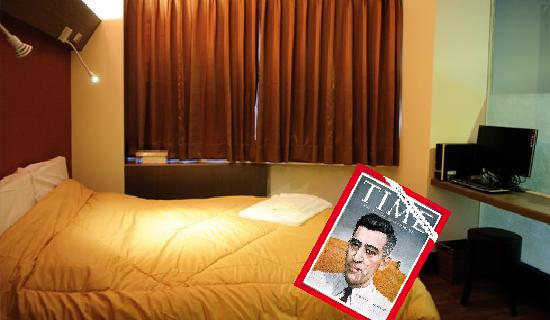times: (292, 161, 452, 320)
